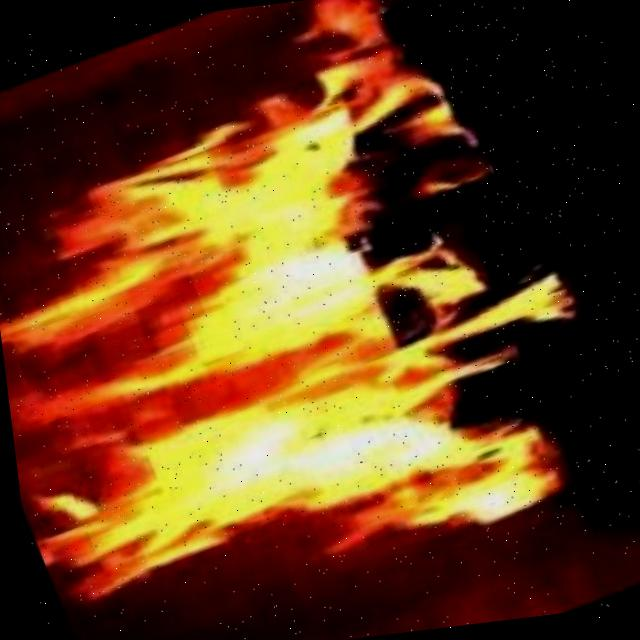fire: (0, 68, 573, 640)
